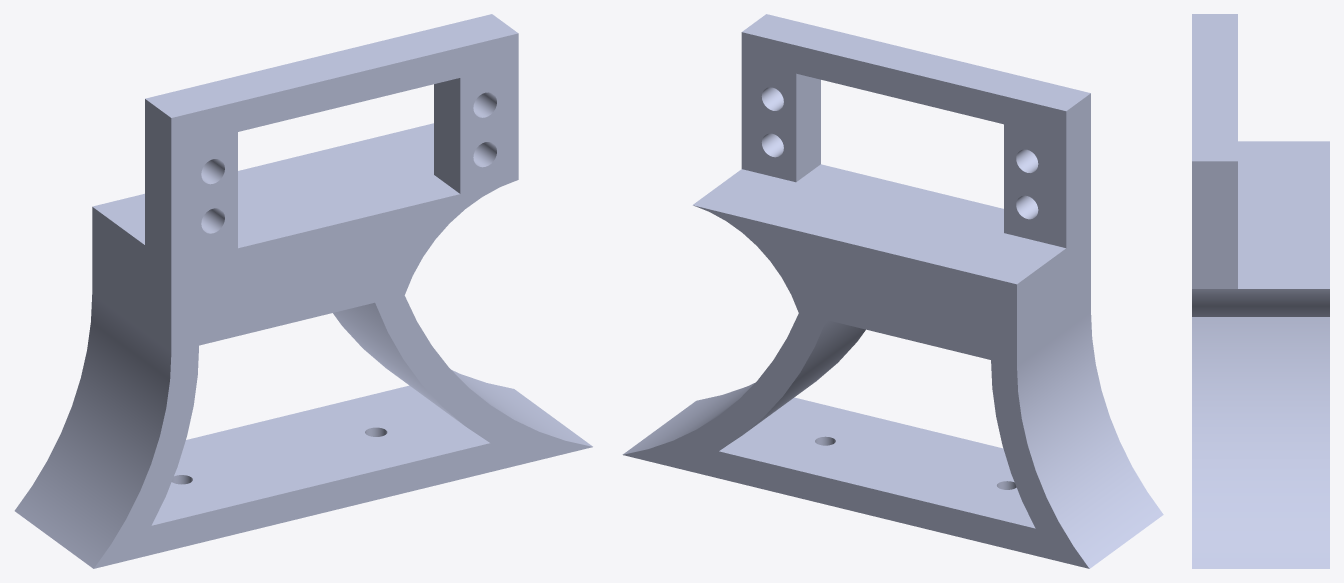
The model's file is Base_de_Servo.glb.
3 renders of one model, left to right at view 1: azimuth 30°, elevation 25°; view 2: azimuth 150°, elevation 25°; view 3: azimuth 270°, elevation 25°, orthographic. The views are drawn at different scales.
Parts seen in each view (by area): view 1: Base de Servo; view 2: Base de Servo; view 3: Base de Servo.
Boxes of the visible parts, bbox=[...] form: Base de Servo: bbox=[14, 14, 592, 568]; Base de Servo: bbox=[622, 14, 1163, 568]; Base de Servo: bbox=[1192, 14, 1329, 568].
Size of the model in its own units: 0.09 by 0.0743 by 0.0247.
